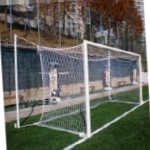goals: (37, 37, 145, 137)
